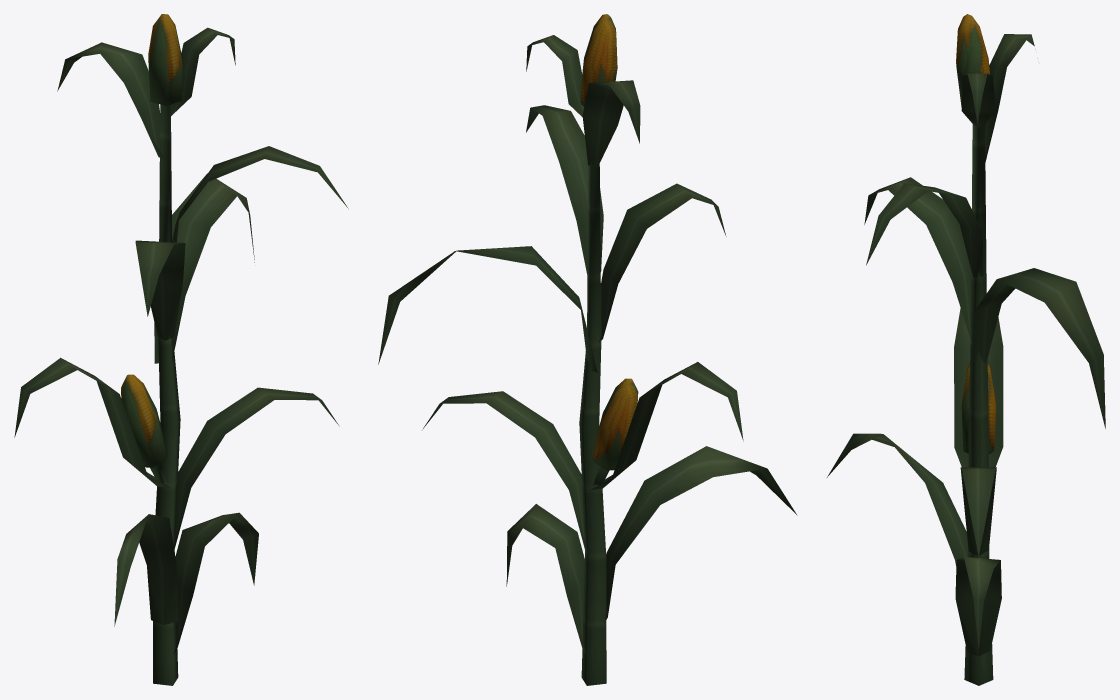
Rendered from GardenBed_Corn.FBX.
3 renders of one model, left to right at view 1: azimuth 30°, elevation 25°; view 2: azimuth 150°, elevation 25°; view 3: azimuth 270°, elevation 25°, orthographic.
Parts seen in each view (by area): view 1: GardenBed_Corn; view 2: GardenBed_Corn; view 3: GardenBed_Corn.
Boxes of the visible parts, <box> form: GardenBed_Corn: <box>14,14,348,685</box>; GardenBed_Corn: <box>378,14,797,685</box>; GardenBed_Corn: <box>827,14,1105,685</box>.
Bounding box in the file's own units: 0.3994 × 0.7866 × 0.301.
Materials: 1 (1 with a texture image).
